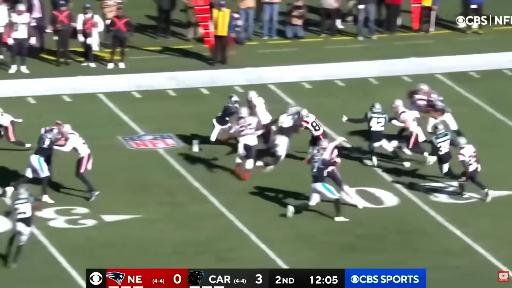Helmet: (17, 186, 30, 198), (433, 122, 445, 134), (287, 106, 301, 114), (61, 123, 72, 133), (247, 91, 258, 101), (319, 139, 329, 150), (239, 107, 249, 117), (393, 99, 403, 109), (371, 103, 382, 112), (229, 95, 239, 104), (46, 126, 55, 136), (416, 84, 430, 90), (458, 137, 467, 146), (16, 4, 26, 11), (301, 109, 308, 117), (0, 108, 3, 113)
Jersey: (398, 108, 425, 142), (311, 152, 336, 183), (34, 128, 59, 158), (409, 90, 441, 113), (365, 112, 389, 142), (63, 131, 90, 157), (235, 116, 259, 145), (13, 197, 33, 226), (252, 97, 272, 125), (276, 114, 299, 138), (458, 145, 478, 171), (216, 104, 238, 126), (11, 13, 30, 38), (302, 114, 323, 136), (432, 132, 451, 156), (366, 112, 389, 131), (408, 90, 428, 111), (429, 99, 451, 115), (0, 113, 14, 126)
Player: (287, 142, 347, 221), (6, 128, 62, 203), (313, 137, 362, 208), (343, 103, 399, 165), (54, 124, 99, 201), (393, 100, 435, 164), (5, 187, 37, 268), (231, 107, 262, 180), (266, 107, 301, 171), (458, 138, 490, 202), (247, 91, 273, 145), (210, 95, 239, 141), (427, 100, 463, 137), (301, 109, 326, 159), (0, 108, 31, 148), (432, 123, 453, 175), (408, 84, 441, 113), (45, 154, 52, 181)
